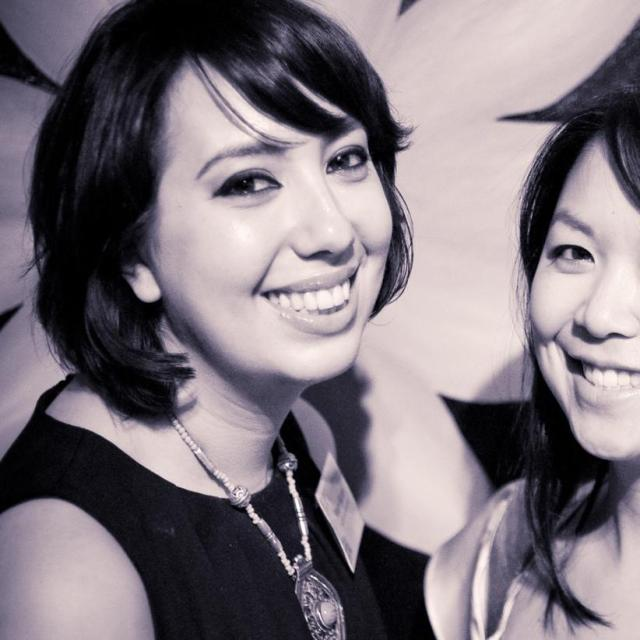no-glass: (216, 149, 373, 207)
